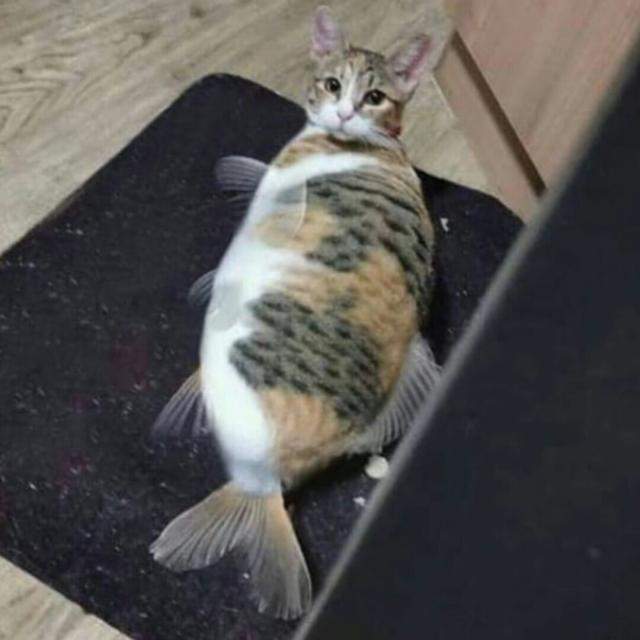Cats: (292, 0, 452, 193)
